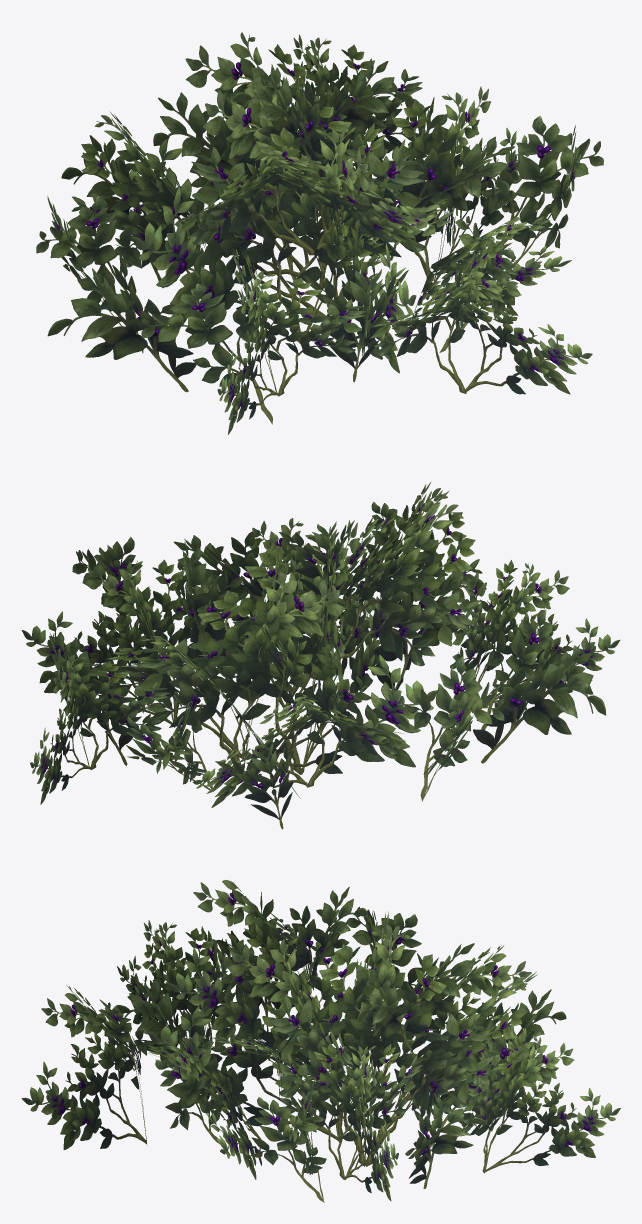
3 views of the same model, one above another, from view 1: azimuth 30°, elevation 25°; view 2: azimuth 150°, elevation 25°; view 3: azimuth 270°, elevation 25° (orthographic). The views are drawn at different scales.
Size of the model in its own units: 6.54 by 3.11 by 6.81.
Materials: 1 (1 with a texture image).
